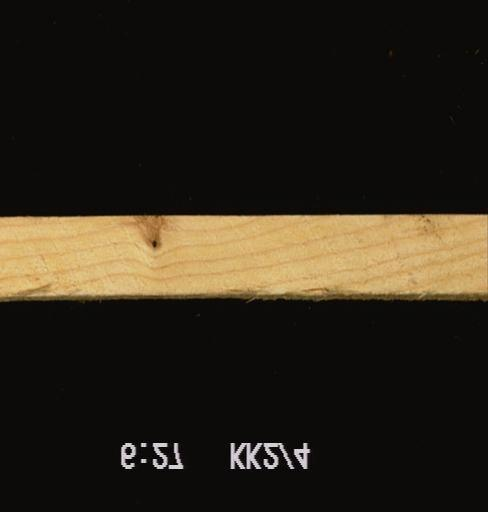small_knot: (149, 237, 157, 250)
split: (304, 287, 333, 293)
